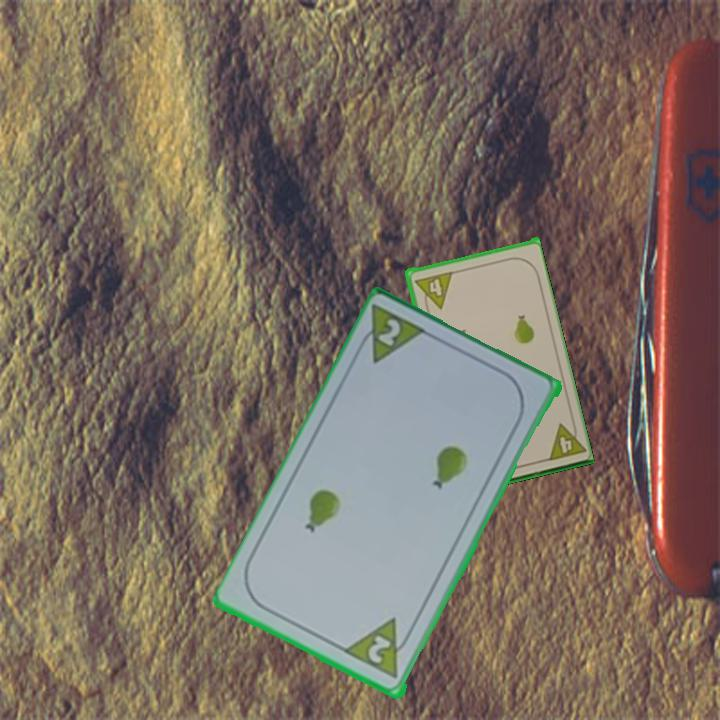2p: (343, 615, 417, 683), (374, 315, 404, 350)
4p: (542, 416, 587, 464), (410, 268, 455, 314)
